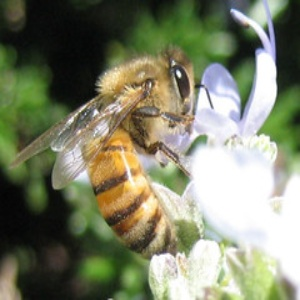bee: (31, 44, 205, 256)
